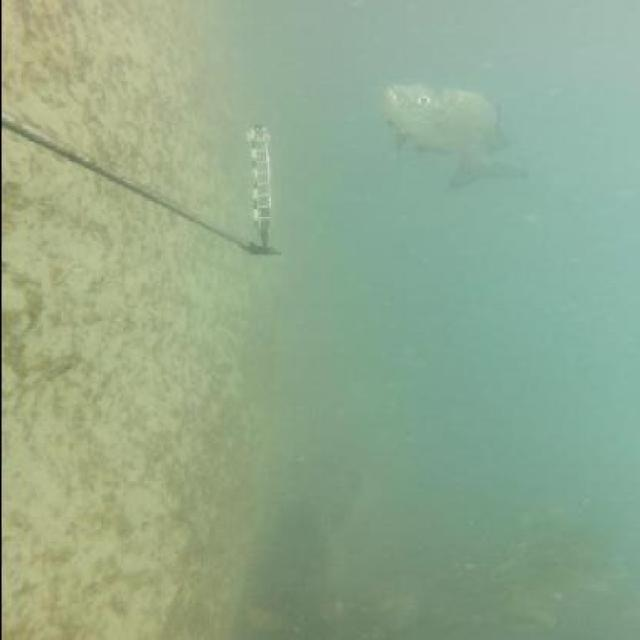acanthopagrus_palmaris: (376, 82, 530, 190)
